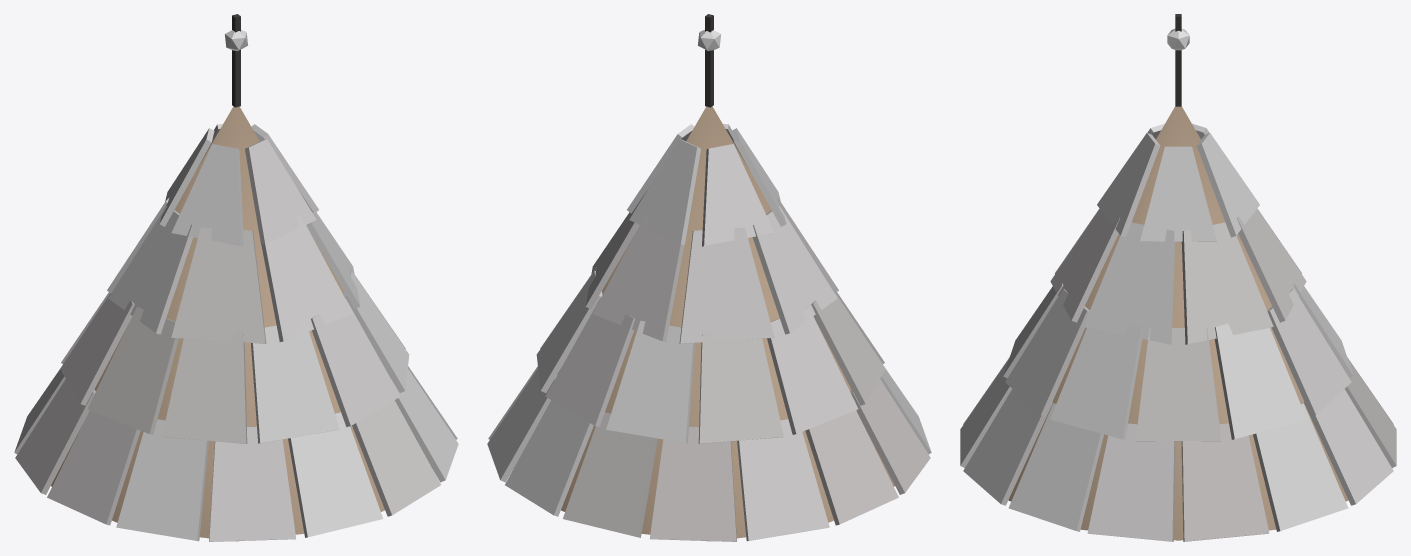
Rendered from Kit_RealKeep_CBR.fbx.
The picture shows the model from 3 angles, left to right: view 1: azimuth 30°, elevation 25°; view 2: azimuth 150°, elevation 25°; view 3: azimuth 270°, elevation 25°; orthographic projection.
Parts seen in each view (by area): view 1: Kit_RealKeep_CBR_LOD0; view 2: Kit_RealKeep_CBR_LOD0; view 3: Kit_RealKeep_CBR_LOD0.
Boxes of the visible parts, <box> form: Kit_RealKeep_CBR_LOD0: <box>14,14,458,541</box>; Kit_RealKeep_CBR_LOD0: <box>487,14,931,541</box>; Kit_RealKeep_CBR_LOD0: <box>960,14,1396,541</box>.
Size of what is drawn, in the model's own units: 2.02 by 2.2 by 1.98.
